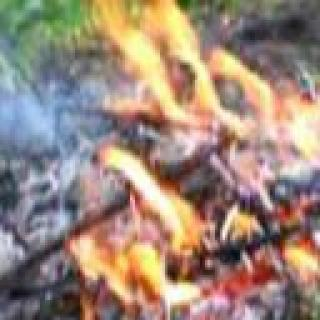fire: (88, 1, 320, 170), (85, 141, 256, 320), (265, 185, 320, 303)
